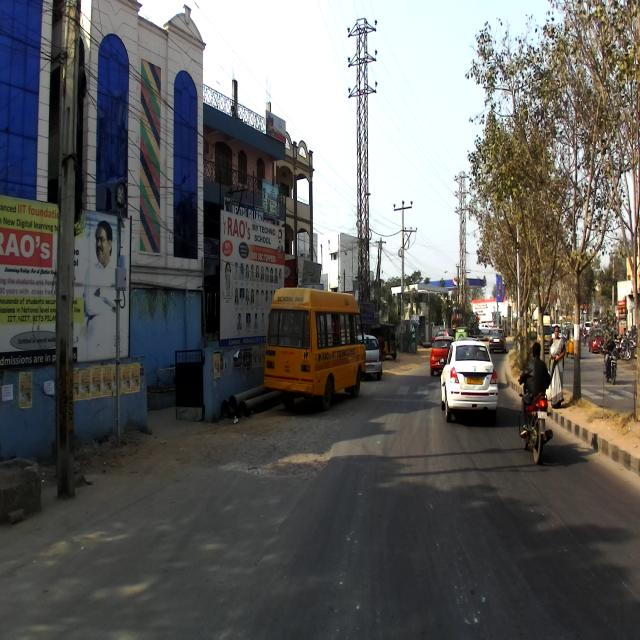bus ahead at: (268, 285, 366, 428)
car ahead at: (442, 335, 498, 419)
motorcycle ahead at: (518, 391, 554, 466)
